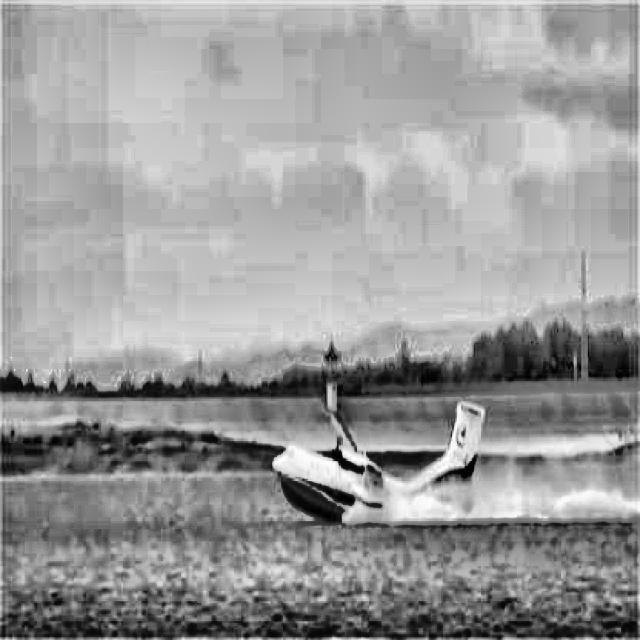AG600: (272, 399, 486, 523)
